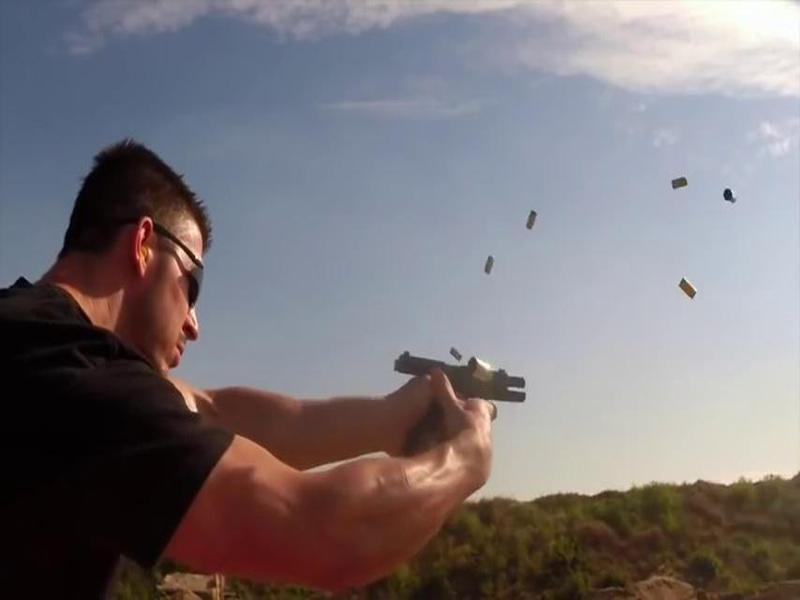Pistola: (394, 341, 562, 459)
